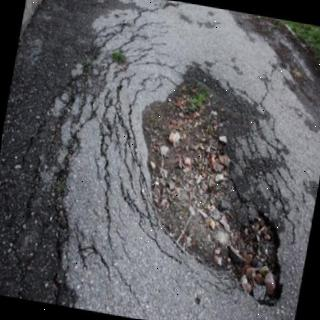pothole: (141, 78, 281, 307)
